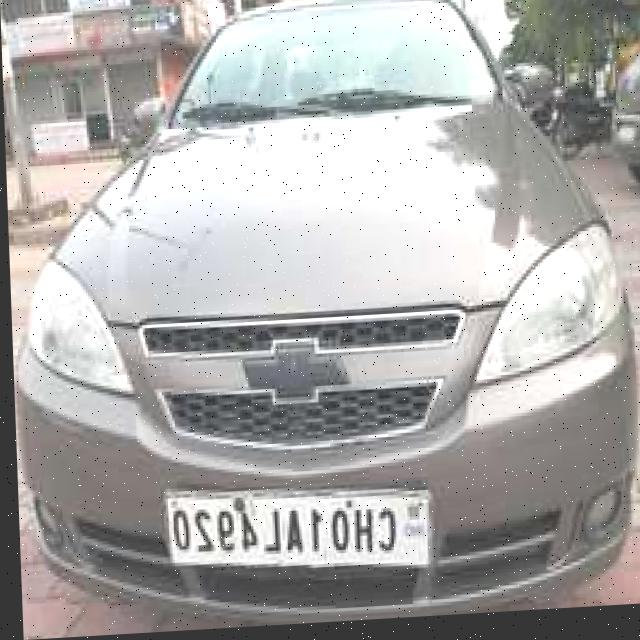plate: (161, 480, 428, 587)
